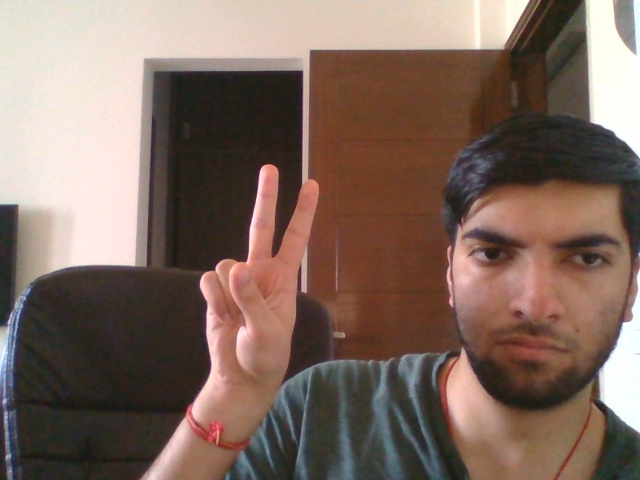LetterV: (198, 161, 321, 388)
